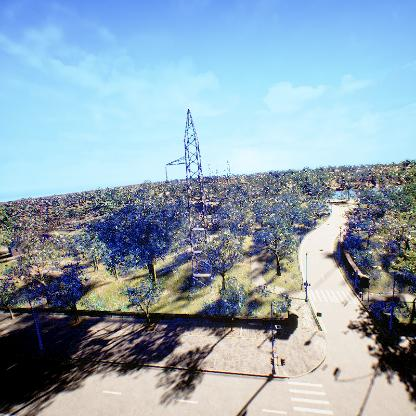tower: (161, 104, 233, 290)
